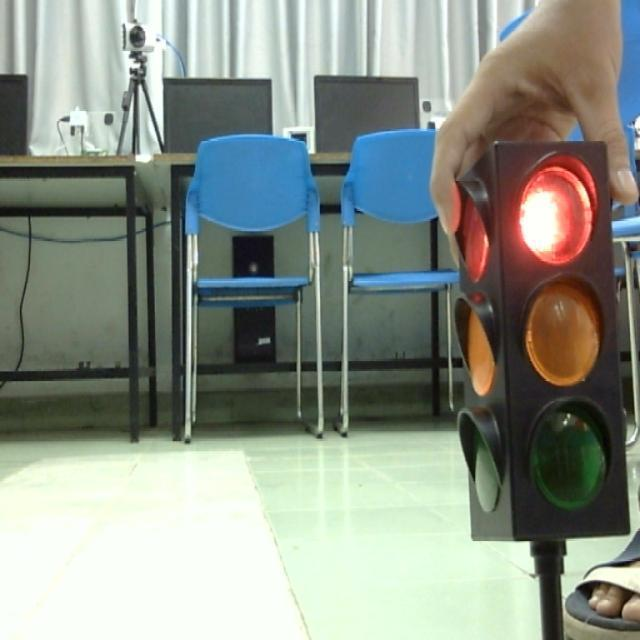red_light: (439, 124, 635, 542)
